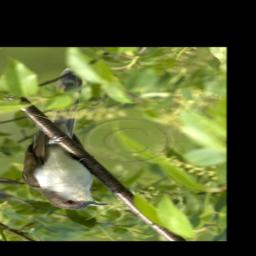Cuckoo: (24, 86, 110, 214)
